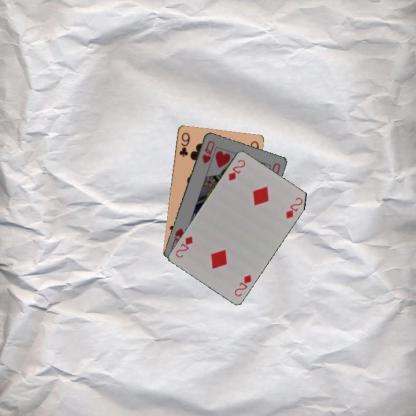2d: (225, 157, 247, 182), (232, 272, 252, 298)
9c: (176, 129, 191, 158)
Qh: (200, 138, 216, 165)
